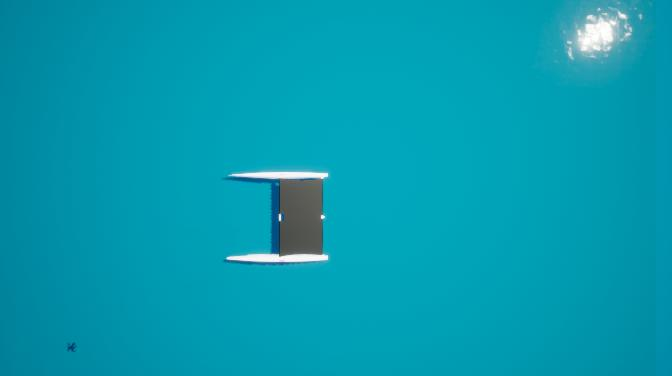boat: (225, 169, 329, 266)
drone: (66, 341, 77, 354)
land_base: (281, 181, 322, 254)
light_reflex: (553, 0, 655, 72)
